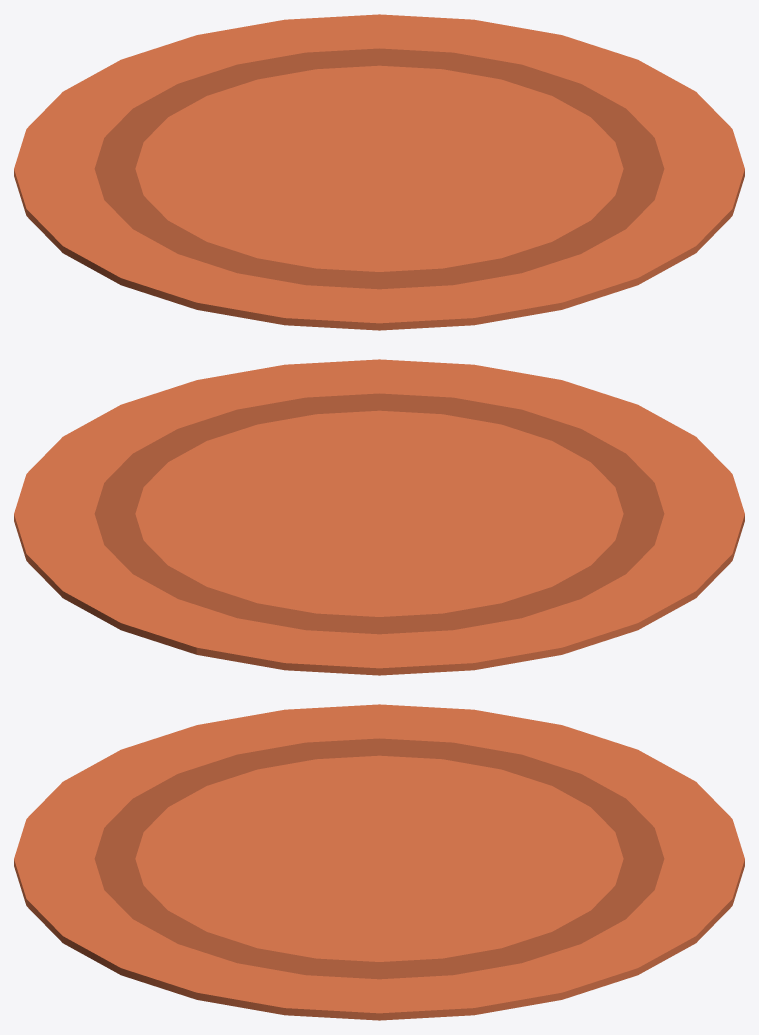
Rendered from rugRound.glb.
The picture shows the model from 3 angles, top to bottom: view 1: azimuth 30°, elevation 25°; view 2: azimuth 150°, elevation 25°; view 3: azimuth 270°, elevation 25°; orthographic projection.
Bounding box in the file's own units: 9.2 × 0.1 × 9.2.
